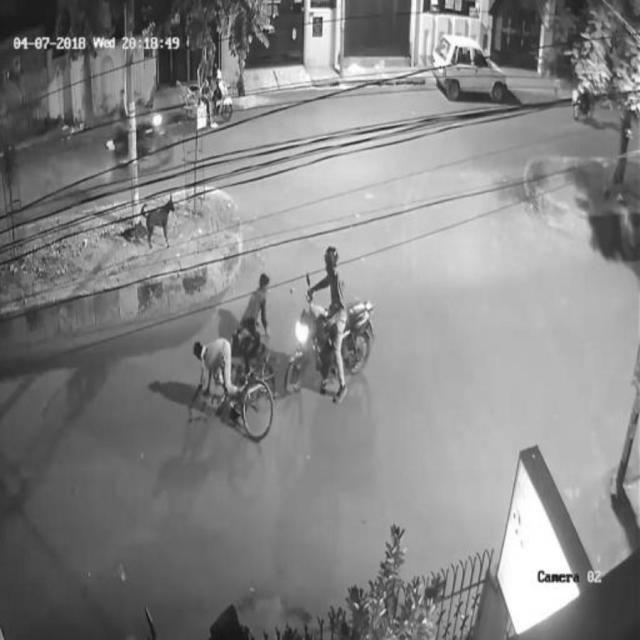vehicle: (198, 266, 279, 448), (284, 243, 377, 397), (430, 26, 507, 112), (96, 88, 177, 168), (175, 47, 239, 120)
